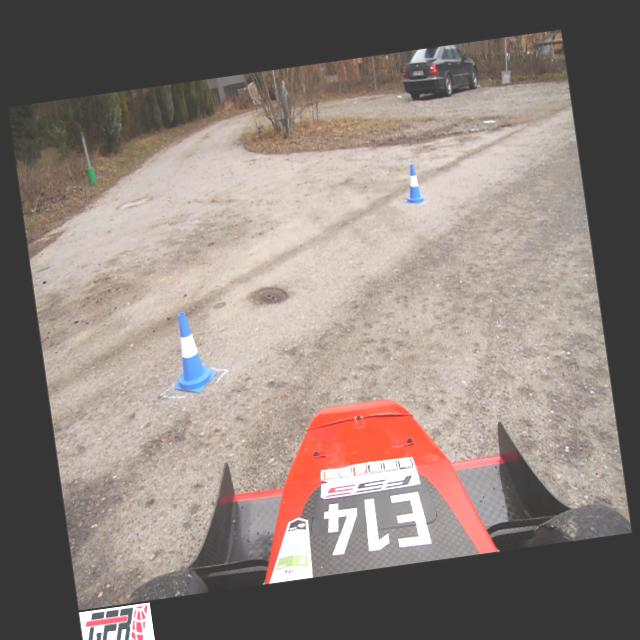blue_cone: (164, 309, 218, 395), (400, 163, 426, 204)
